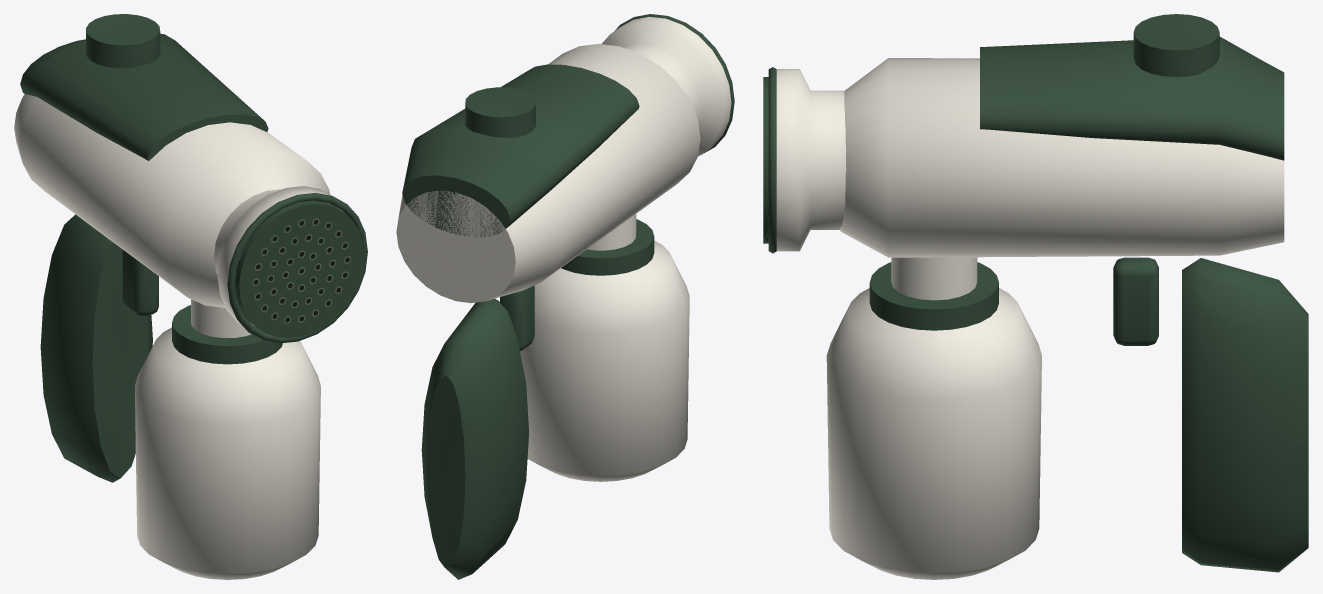
The model's file is FoamCannon.fbx.
The picture shows the model from 3 angles, left to right: view 1: azimuth 30°, elevation 25°; view 2: azimuth 150°, elevation 25°; view 3: azimuth 270°, elevation 25°; orthographic projection. The views are drawn at different scales.
Parts seen in each view (by area): view 1: FoamCannon_Mesh; view 2: FoamCannon_Mesh; view 3: FoamCannon_Mesh.
Part boxes in pixels (x1,y1,x2,y2): FoamCannon_Mesh: (14, 14, 367, 579); FoamCannon_Mesh: (396, 14, 734, 579); FoamCannon_Mesh: (763, 14, 1308, 579).
Size of the model in its own units: 0.084 by 0.2215 by 0.2025.
1 material, 1 textured.
